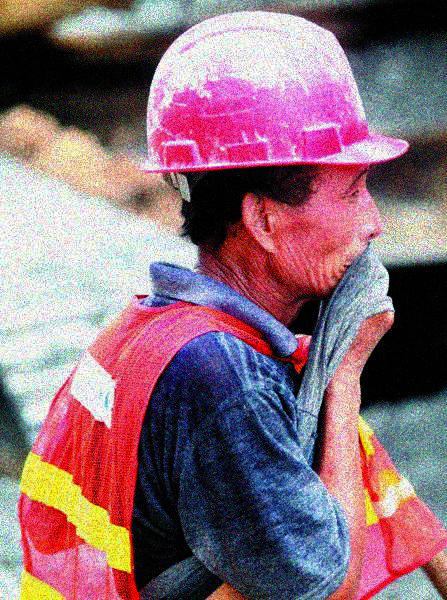helmet: (142, 12, 410, 304)
